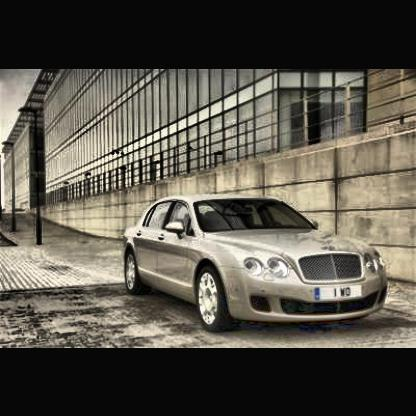Bentley Continental Flying Spur Sedan 2007: (121, 193, 393, 335)
